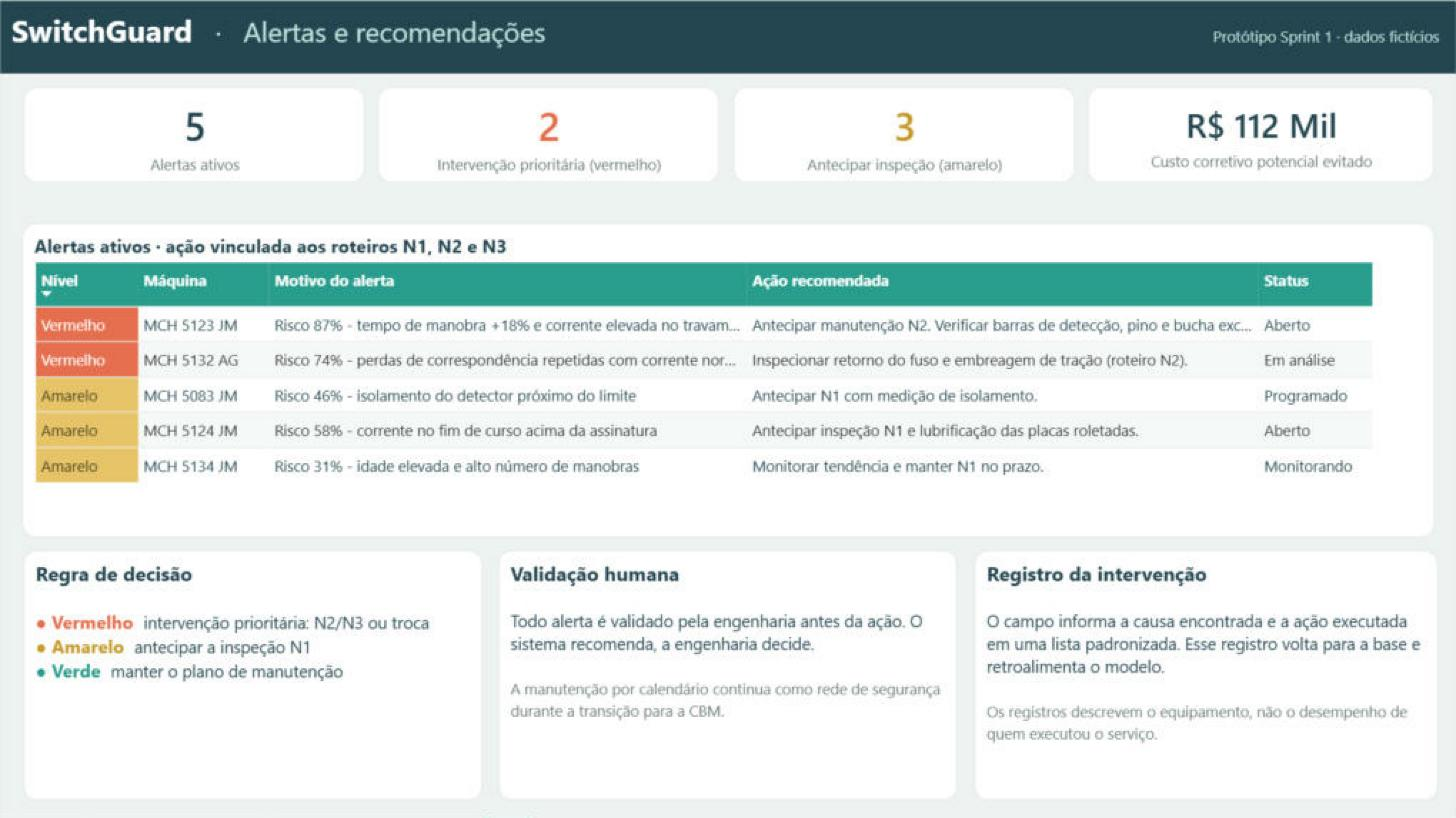

The dashboard page shown, as its layout file describes it:
{"tool":"powerbi","page":{"name":"Alertas e recomendações","canvas":[1280,720],"ordinal":2},"visuals":[{"type":"textbox","box":[0,0,1280,64],"z":25000},{"type":"textbox","box":[880,16,390,36],"z":26000},{"type":"card","fields":{"Values":["maquinas.Alertas ativos"]},"box":[20,76,300,84],"z":27000},{"type":"card","fields":{"Values":["maquinas.Qtd Vermelho"]},"box":[332,76,300,84],"z":28000},{"type":"card","fields":{"Values":["maquinas.Qtd Amarelo"]},"box":[644,76,300,84],"z":29000},{"type":"card","fields":{"Values":["maquinas.Custo corretivo evitado"]},"box":[956,76,304,84],"z":30000},{"type":"tableEx","title":"Alertas ativos · ação vinculada aos roteiros N1, N2 e N3","fields":{"Values":["alertas.nivel","alertas.maquina","alertas.motivo","alertas.acao_recomendada","alertas.status"]},"box":[19.3,196.2,1241.1,276.5],"z":31000},{"type":"textbox","box":[20,484,403,220],"z":32000},{"type":"textbox","box":[438,484,403,220],"z":33000},{"type":"textbox","box":[856,484,407,220],"z":34000}]}

Visuals, with their boxes in screenshot pixels (x1, y1, x2, y2), scaled from the page's 1280x720 canvas onto the 1456x818 screenshot:
textbox: select_region(0, 0, 1455, 73)
textbox: select_region(1001, 18, 1445, 59)
card - maquinas.Alertas ativos: select_region(23, 86, 364, 182)
card - maquinas.Qtd Vermelho: select_region(378, 86, 719, 182)
card - maquinas.Qtd Amarelo: select_region(733, 86, 1074, 182)
card - maquinas.Custo corretivo evitado: select_region(1087, 86, 1433, 182)
"Alertas ativos · ação vinculada aos roteiros N1, N2 e N3" tableEx: select_region(22, 223, 1434, 537)
textbox: select_region(23, 550, 481, 800)
textbox: select_region(498, 550, 957, 800)
textbox: select_region(974, 550, 1437, 800)
